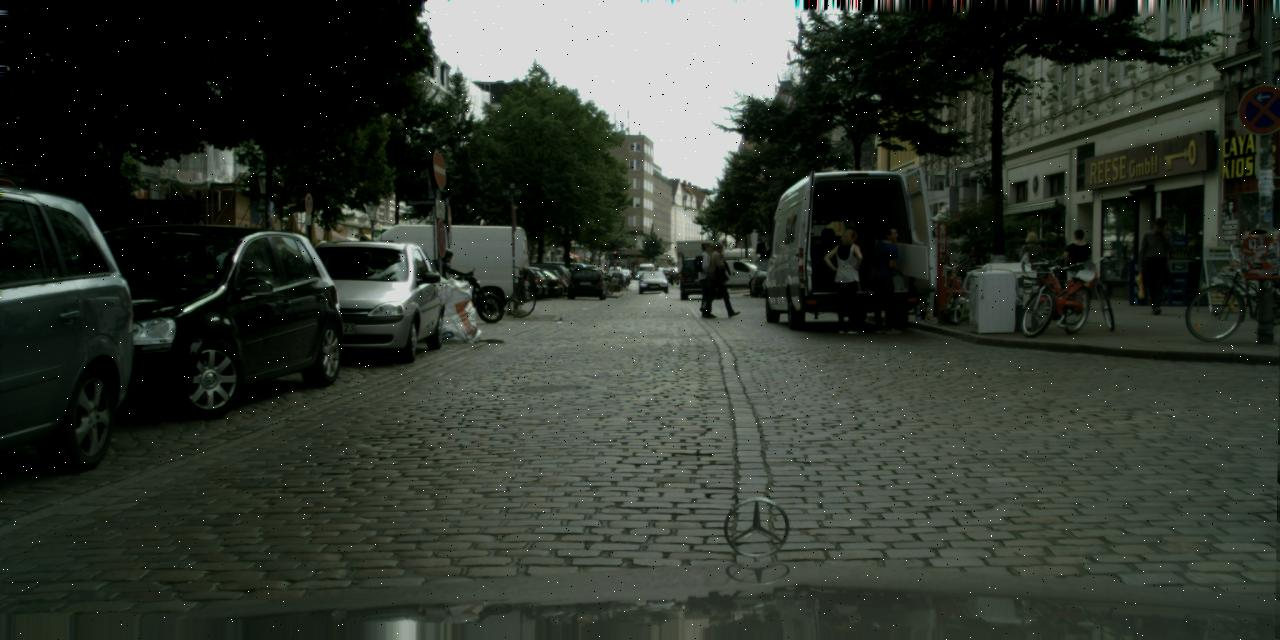ped: (826, 228, 869, 333), (866, 228, 908, 333), (1136, 215, 1176, 314), (838, 200, 874, 288), (704, 242, 735, 316), (692, 241, 721, 313), (1064, 229, 1092, 300), (1020, 232, 1046, 294), (432, 250, 454, 306), (967, 246, 982, 284), (630, 268, 634, 279)
